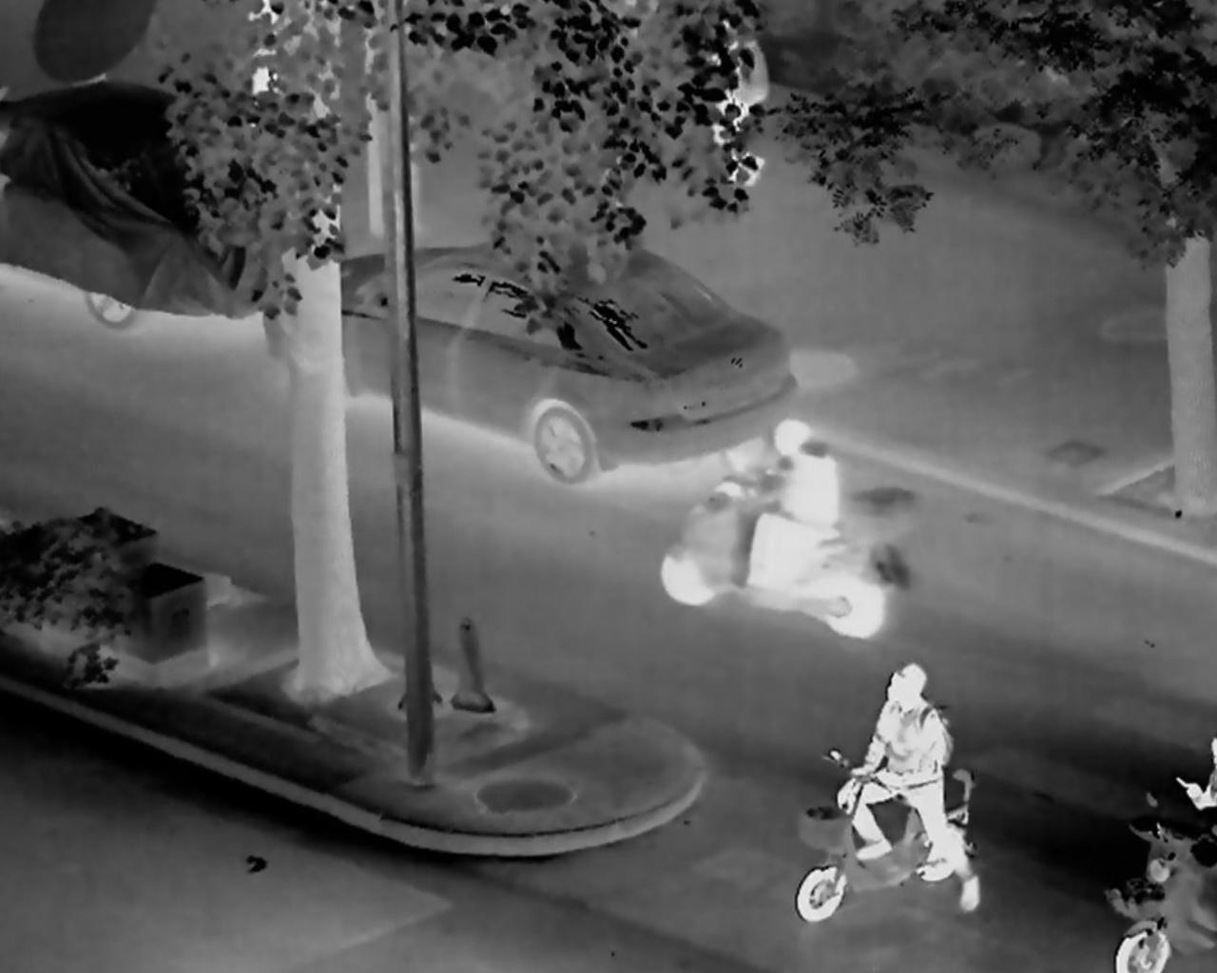person: (835, 662, 980, 916), (726, 416, 840, 587), (683, 12, 770, 193)
